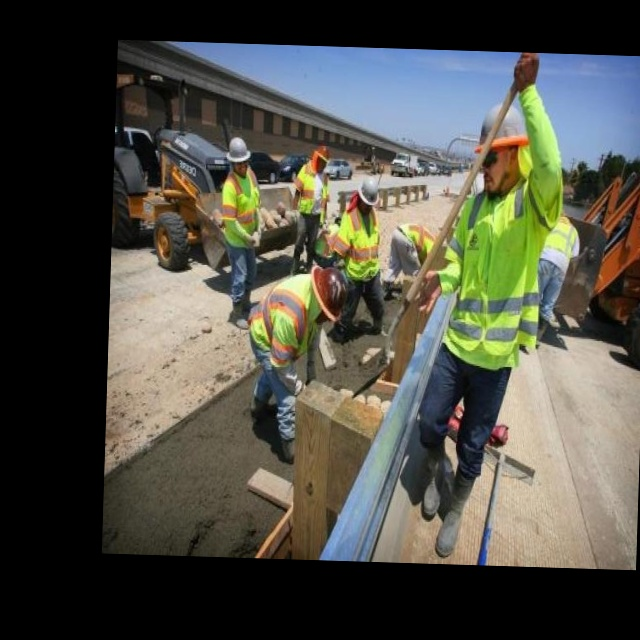Con_Casco: (307, 266, 344, 326), (225, 137, 252, 166), (357, 175, 382, 206)
Con_Chaleco: (445, 186, 543, 354), (247, 272, 307, 368), (221, 169, 260, 246), (343, 208, 382, 277)
